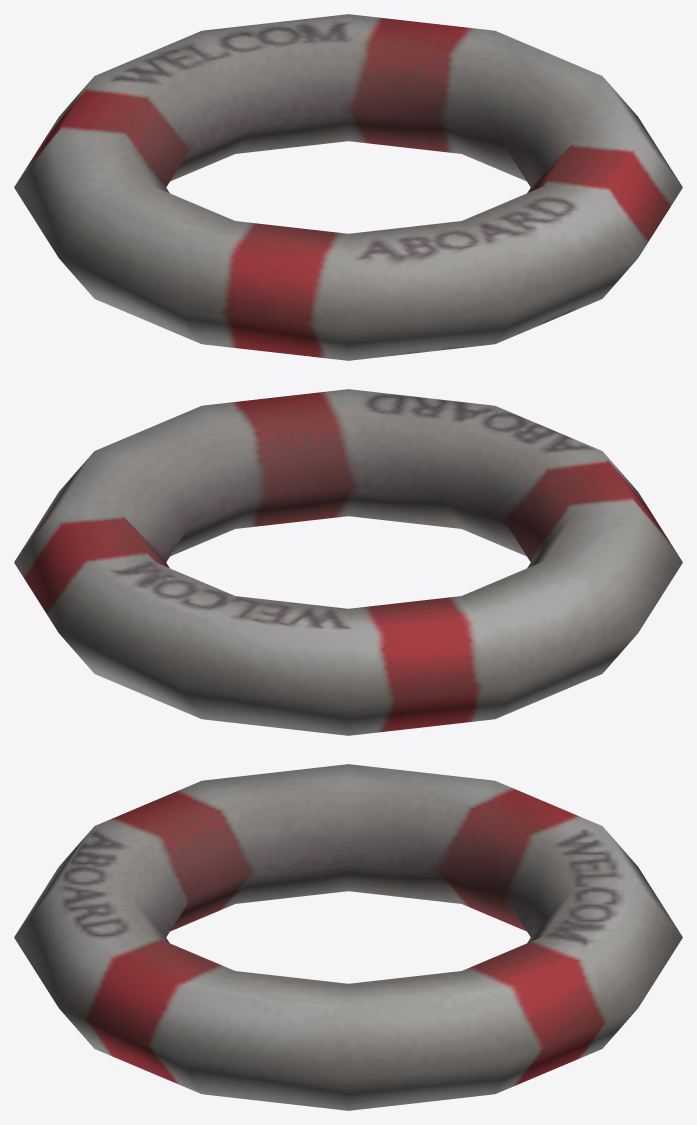
Rendered from hbxz_wj016_02.FBX.
3 views of the same model, one above another, from view 1: azimuth 30°, elevation 25°; view 2: azimuth 150°, elevation 25°; view 3: azimuth 270°, elevation 25° (orthographic).
Parts seen in each view (by area): view 1: hbxz_wj016_02; view 2: hbxz_wj016_02; view 3: hbxz_wj016_02.
Boxes of the visible parts, x1,y1,x2,y2 form: hbxz_wj016_02: [14, 14, 682, 360]; hbxz_wj016_02: [14, 389, 682, 735]; hbxz_wj016_02: [14, 764, 682, 1110].
Size of the model in its own units: 134 by 21.81 by 134.
Materials: 1 (1 with a texture image).
